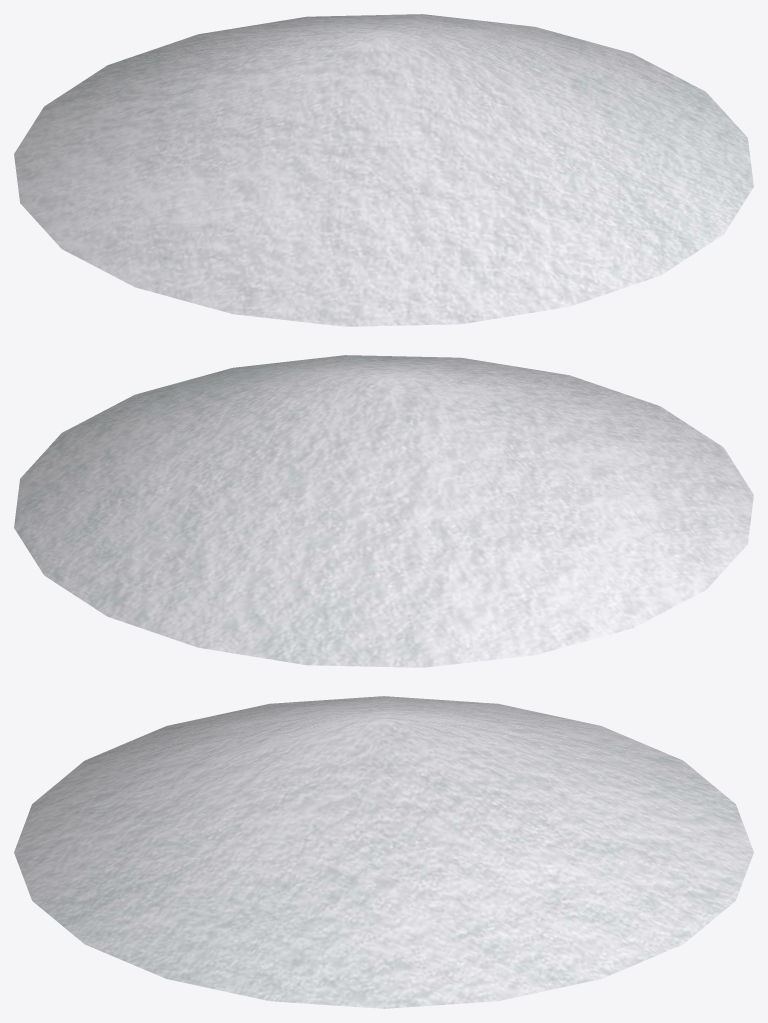
3 renders of one model, top to bottom at view 1: azimuth 30°, elevation 25°; view 2: azimuth 150°, elevation 25°; view 3: azimuth 270°, elevation 25°, orthographic.
Visible parts, largest first — view 1: SM_样品; view 2: SM_样品; view 3: SM_样品.
Boxes of the visible parts, bbox=[...] form: SM_样品: bbox=[14, 14, 753, 326]; SM_样品: bbox=[14, 355, 753, 667]; SM_样品: bbox=[14, 696, 753, 1008].
Bounding box in the file's own units: 0.0997 × 0.0196 × 0.0997.
Materials: 1 (1 with a texture image).
